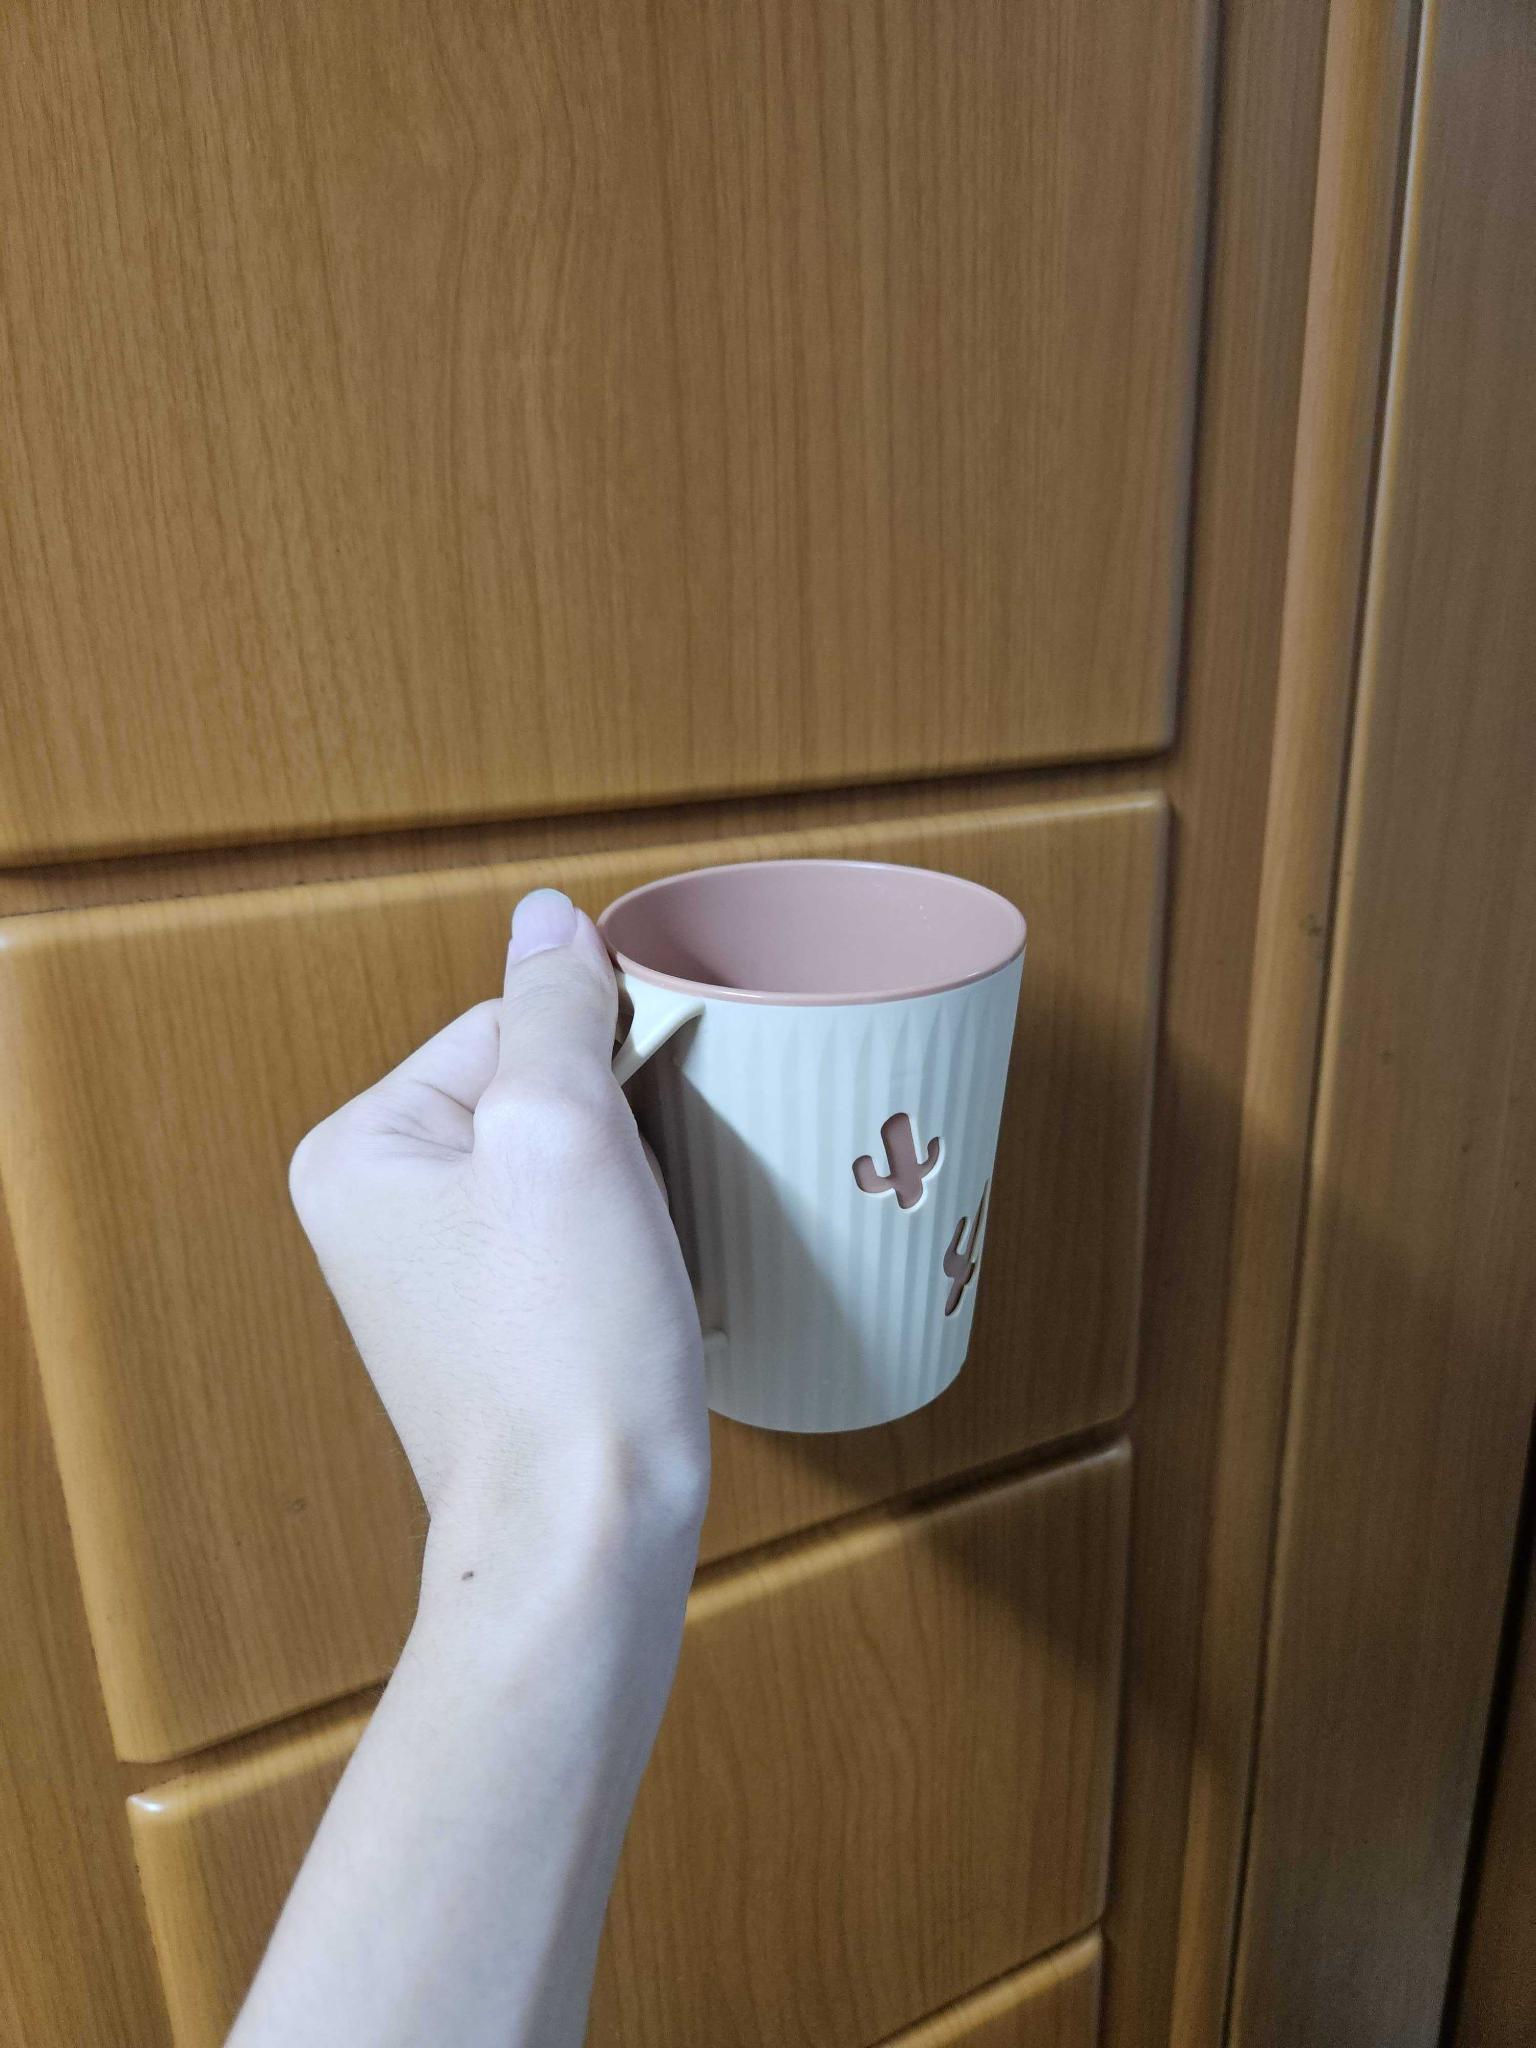cup: (287, 842, 1044, 1595)
